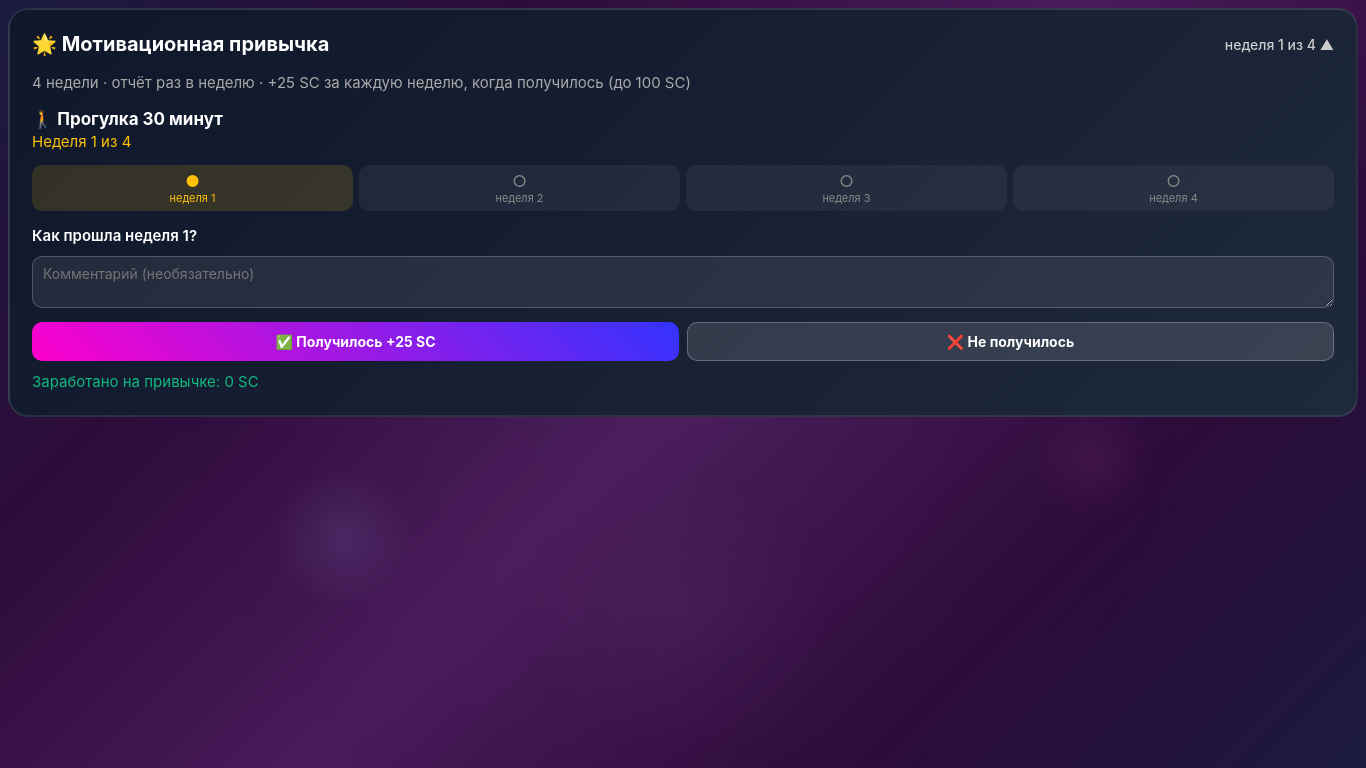
Test: отчёт «получилось» с комментарием: +25 SC и панель SC перечитывается
The width and height of the screenshot is (1366, 768).
Type "гулял каждый вечер" into the text box with placeholder "Комментарий (необязательно)".
click(683, 282); type("гулял каждый вечер")  # box [32, 256, 1334, 308]
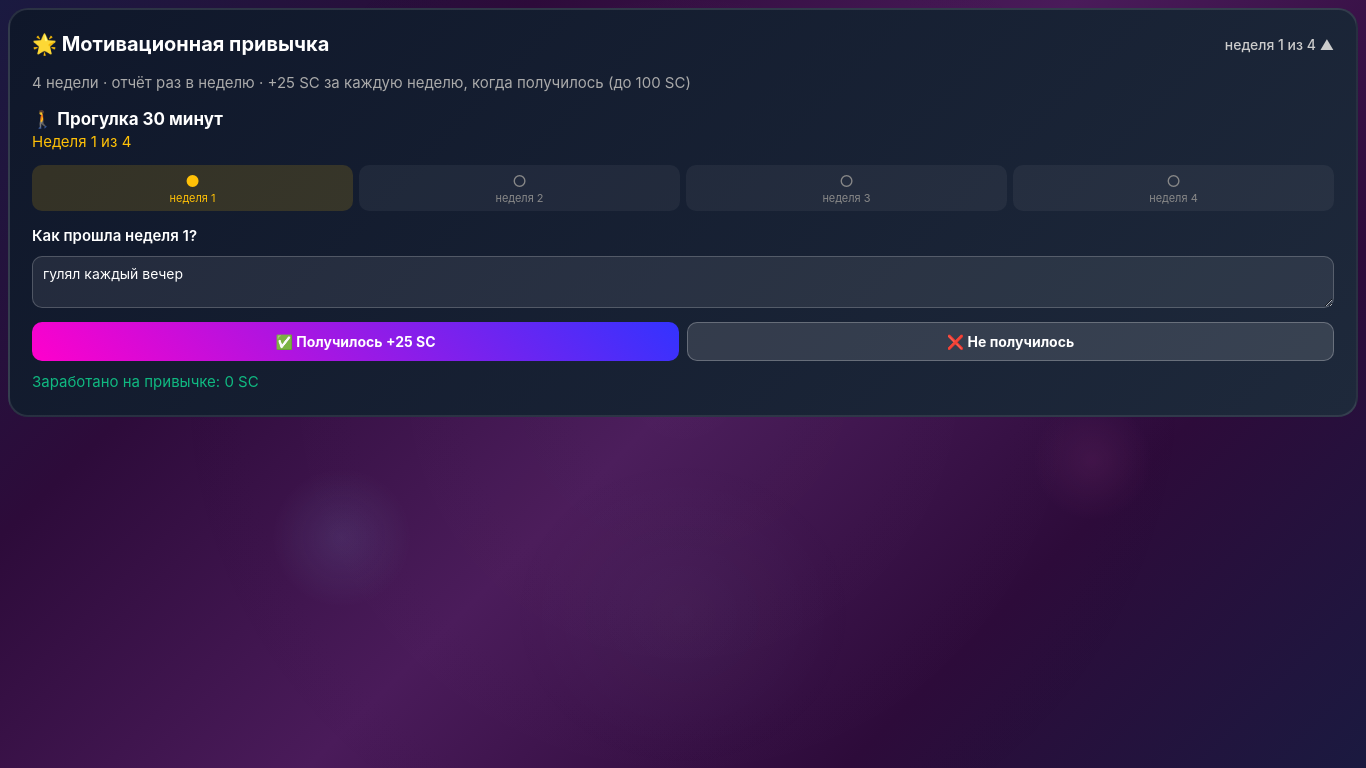
Click the button "✅ Получилось +25 SC".
click(356, 341)  # box [32, 322, 679, 360]
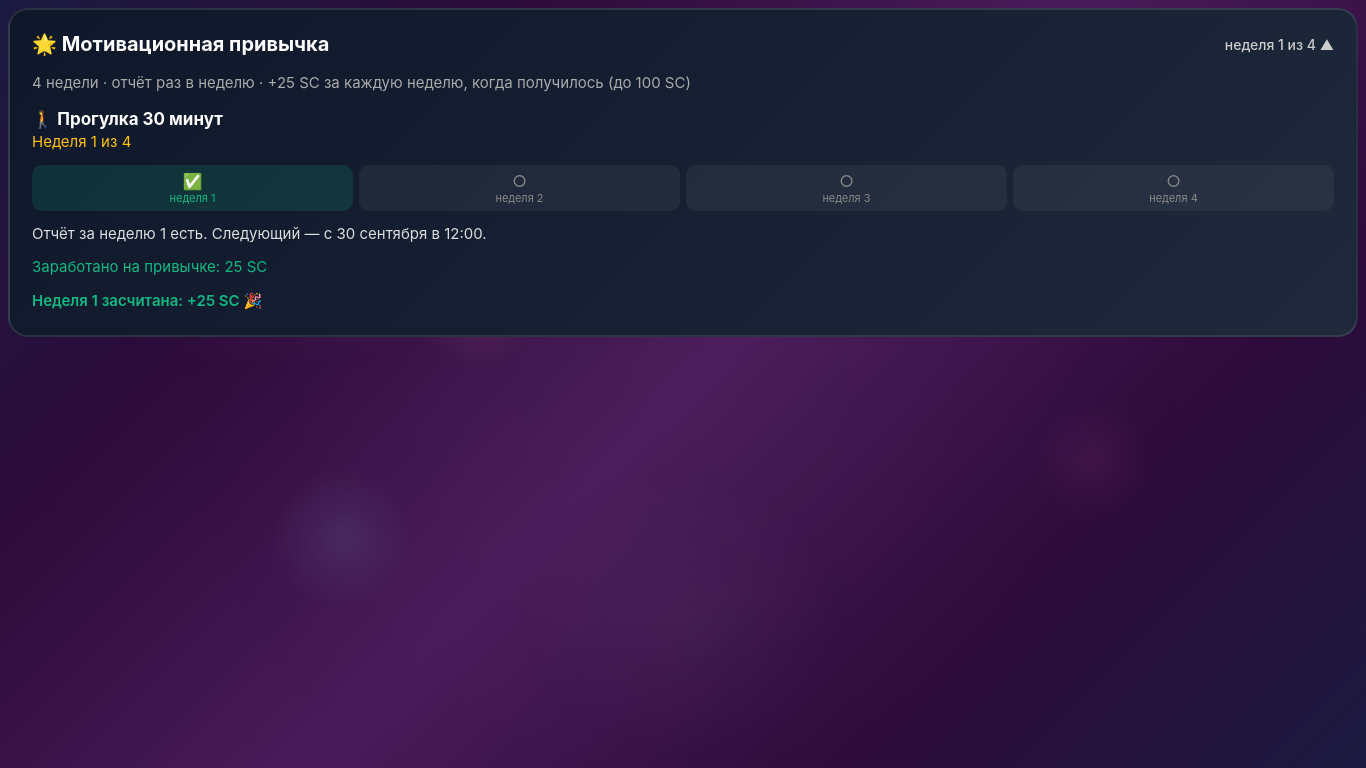
Result: the text "Неделя 1 засчитана: +25 SC 🎉" is shown at [32, 291, 262, 310]
Result: the text "Отчёт за неделю 1 есть. Следующий — с" is shown at [32, 224, 487, 243]
